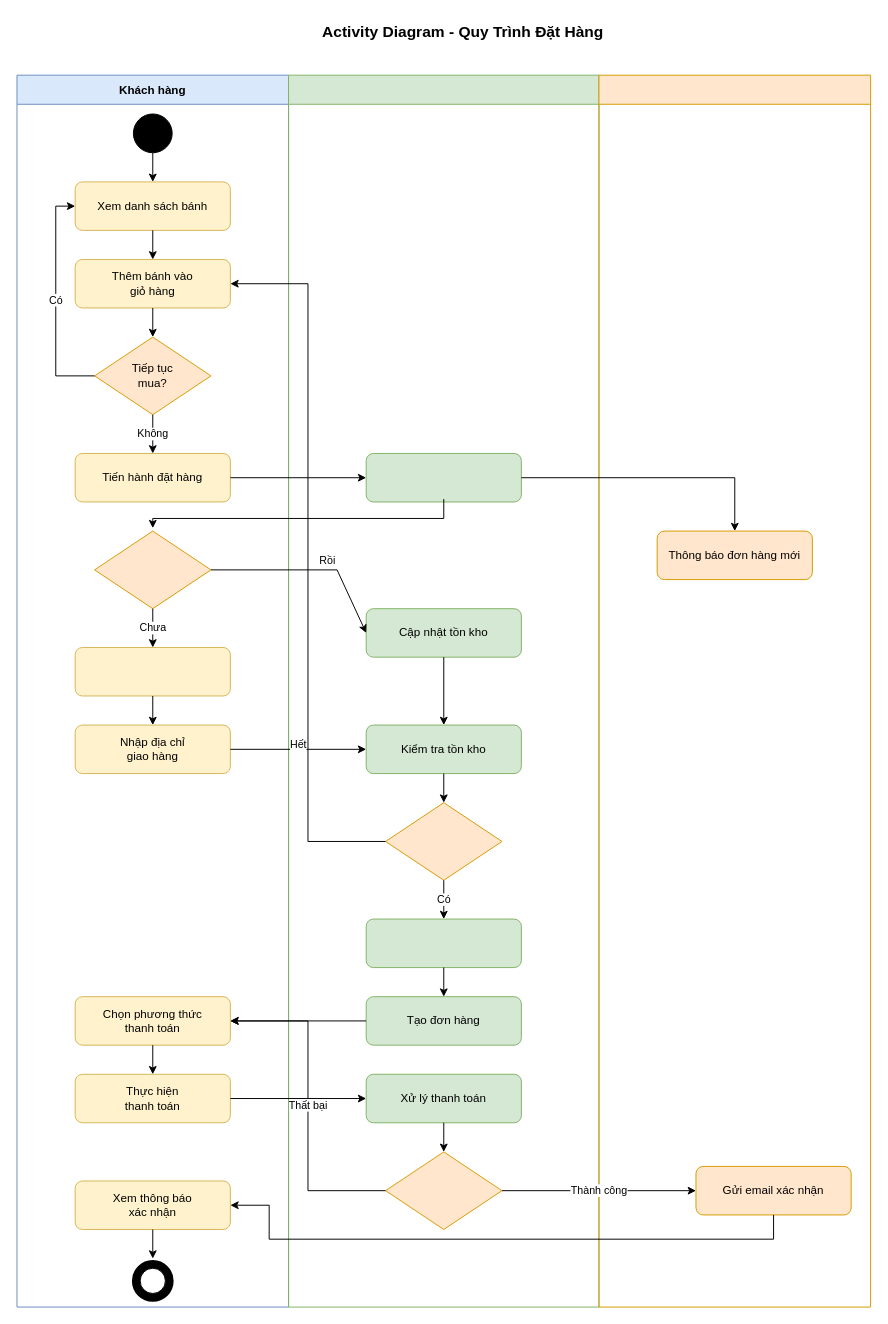
Image size: 888x1324. Some labels were removed from this diagram. The shapes that lost their labels are listed below. From the top down, each one's box as (x1, y1, x2, y2) in pixels, then its label:
(365, 453, 521, 502): Xác thực giỏ hàng
(94, 530, 211, 609): Đã đăng nhập?
(74, 647, 230, 696): Đăng nhập
(288, 74, 599, 1307): Hệ thống
(598, 74, 871, 1307): Admin/Nhân viên
(385, 802, 502, 880): Còn hàng?
(365, 918, 521, 968): Tính tổng giá trị đơn hàng
(385, 1151, 502, 1229): Thanh toán thành công?
